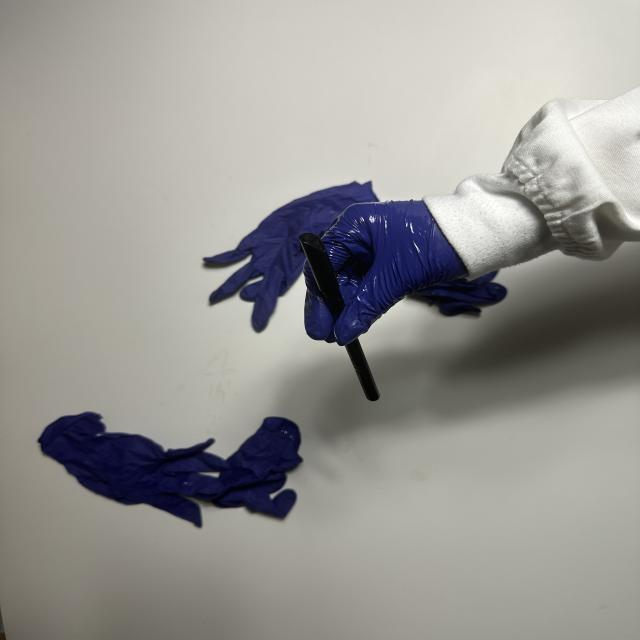gloves_contaminated: (304, 200, 467, 346)
